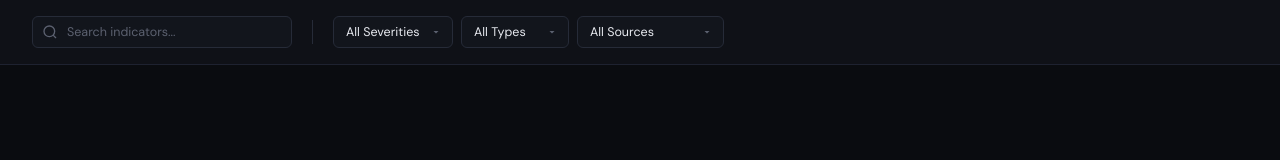
Test: Toolbar › shows clear filters when a filter is active
Select "Critical" in the 1st dropdown showing "All Severities": (393, 32) [333,16,453,48]
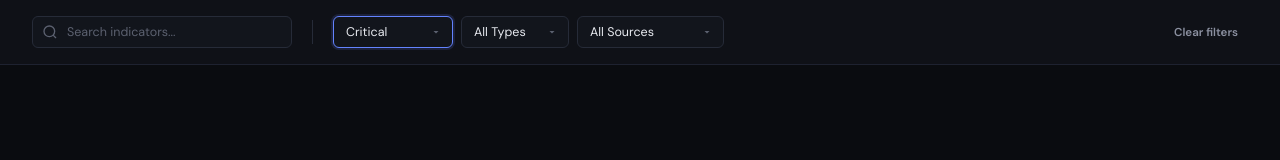
Now the button "Clear filters" is shown, box [1164,18,1248,46]
